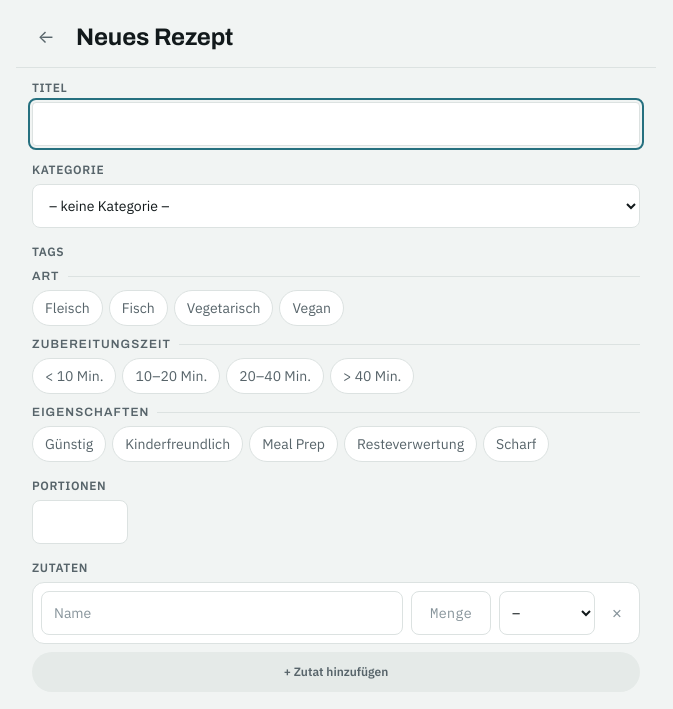
it: RecipeForm — creating › reports a failed save and stays on the form
Step 1. Type "Chili" into the field labelled "Titel" → (336, 124), box [32, 102, 640, 146]
(page scrolled)
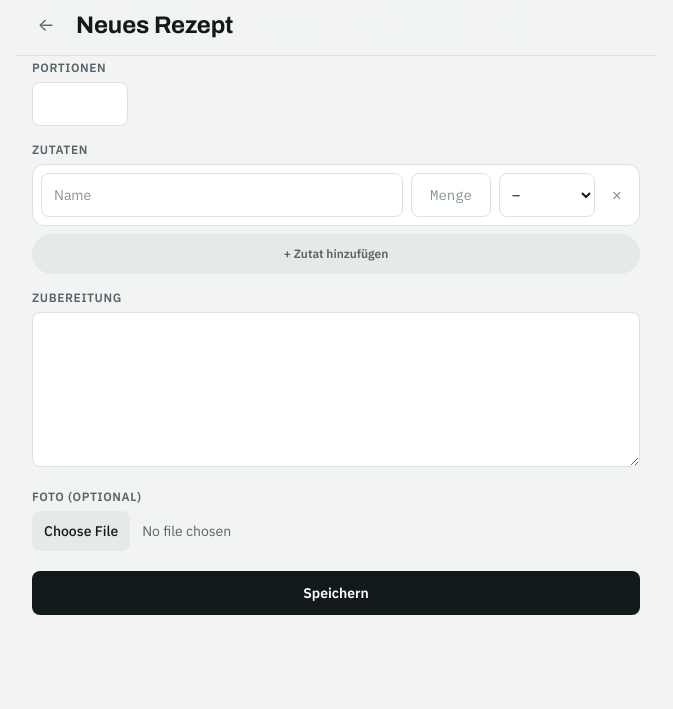
Step 2. Click the button "Speichern" → (336, 592), box [32, 570, 640, 614]
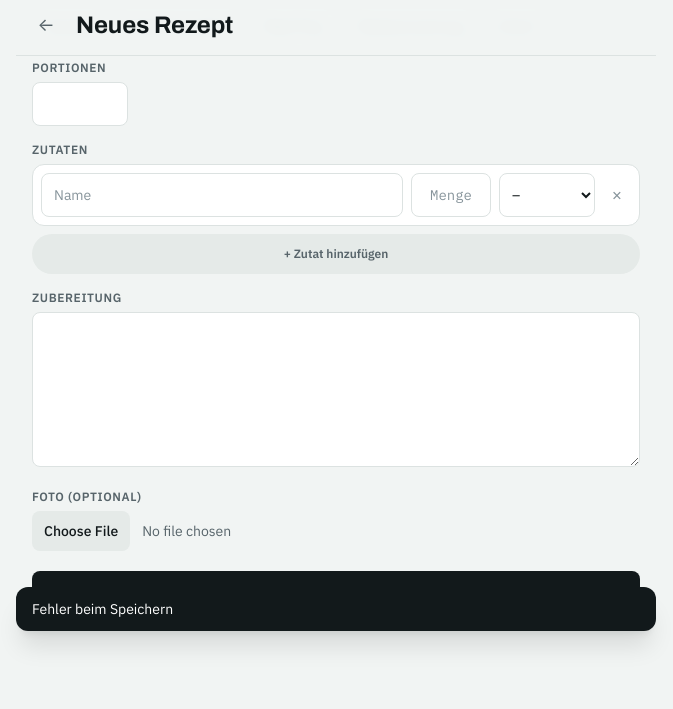
expect the message reads "Fehler beim Speichern": met, box [32, 600, 173, 618]
